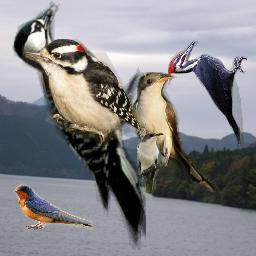Cuckoo: (132, 72, 217, 195), (137, 132, 164, 195)
Swallow: (12, 183, 93, 232)
Woodpecker: (11, 1, 146, 250), (22, 39, 144, 146), (168, 41, 247, 152)
